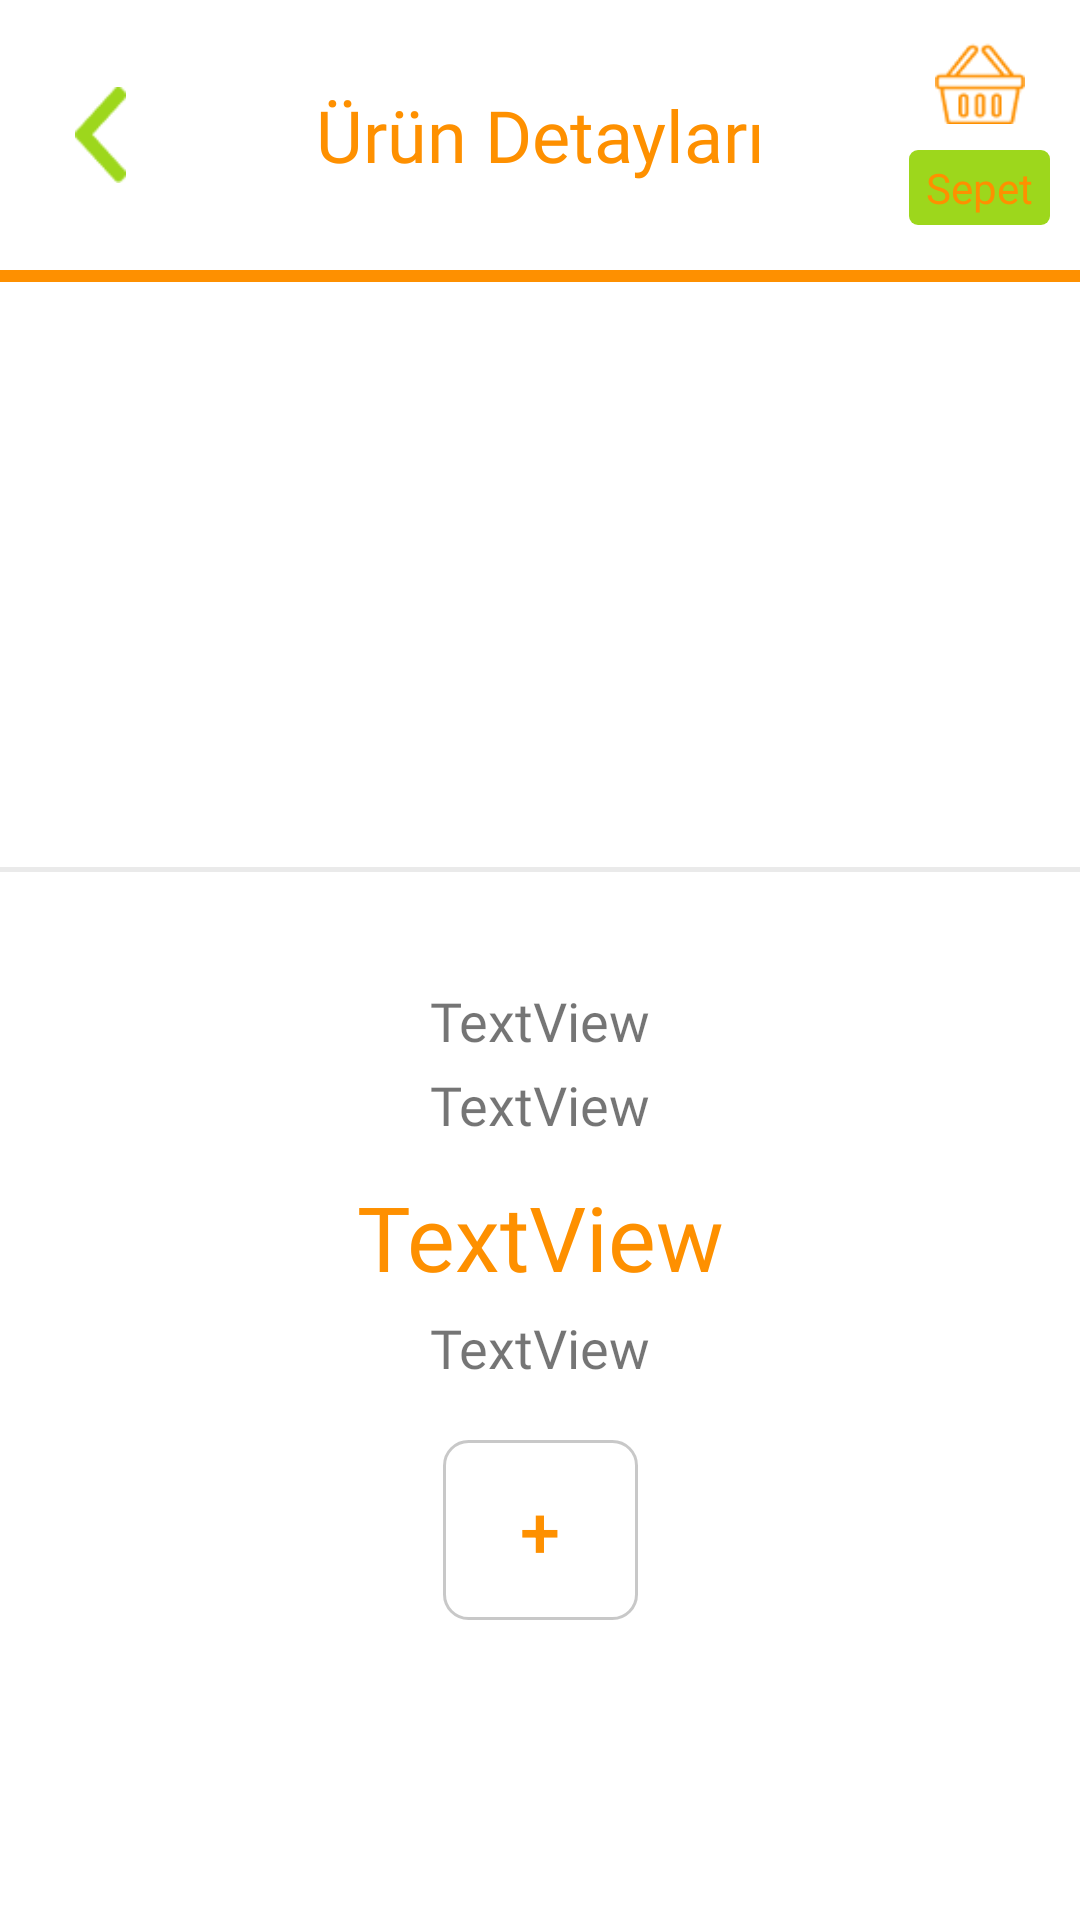

Point at icon controls on the screen. Image size 1080px x 1920px, points as (x=x, y=y).
backvector: (x=100, y=135)
cartvector: (x=980, y=84)
